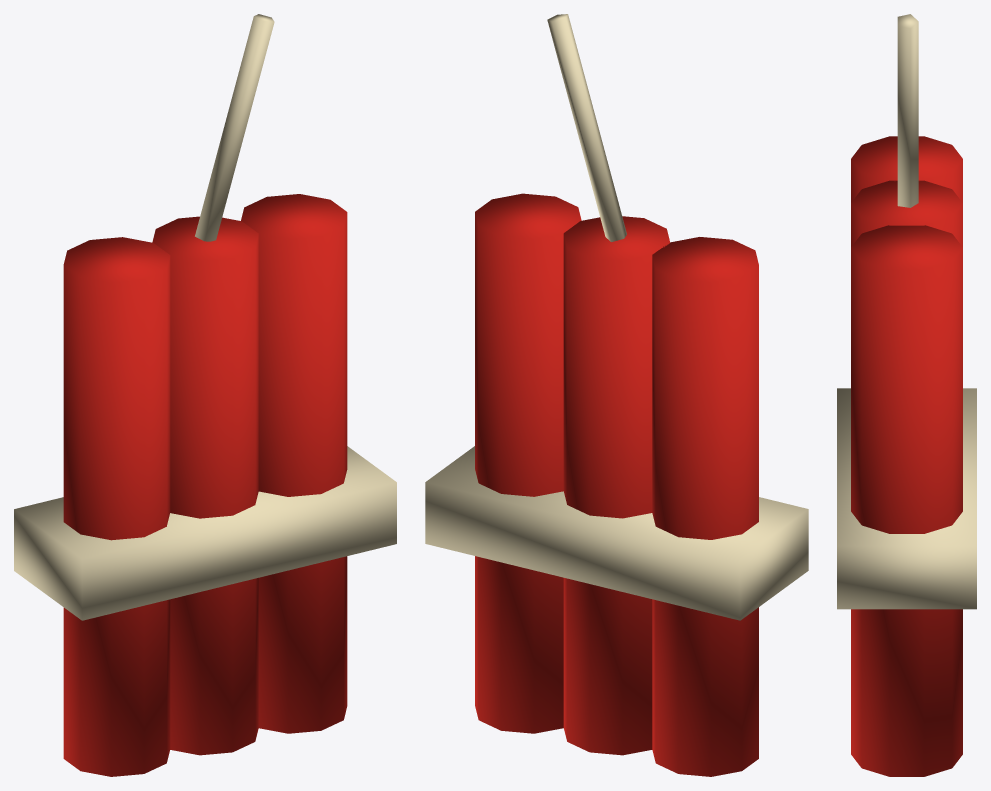
File: dynamite.glb
3 renders of one model, left to right at view 1: azimuth 30°, elevation 25°; view 2: azimuth 150°, elevation 25°; view 3: azimuth 270°, elevation 25°, orthographic. The views are drawn at different scales.
Parts seen in each view (by area): view 1: Dynamite; view 2: Dynamite; view 3: Dynamite.
Boxes of the visible parts, x1=… form: Dynamite: x1=14, y1=14, x2=396, y2=776; Dynamite: x1=425, y1=14, x2=808, y2=776; Dynamite: x1=837, y1=14, x2=976, y2=776.
Size of the model in its own units: 0.16 by 0.3414 by 0.06.
